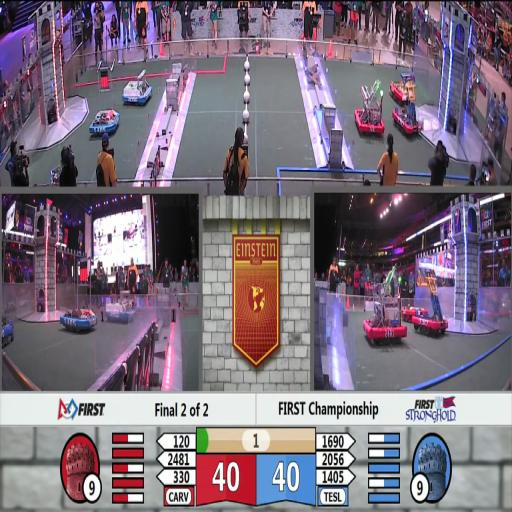robot: (363, 270, 408, 340), (414, 273, 451, 332), (352, 84, 384, 136), (121, 68, 152, 104), (391, 98, 421, 134), (98, 295, 137, 320), (57, 306, 97, 330), (88, 108, 120, 135), (389, 72, 415, 104), (401, 301, 427, 321), (2, 315, 15, 345)
